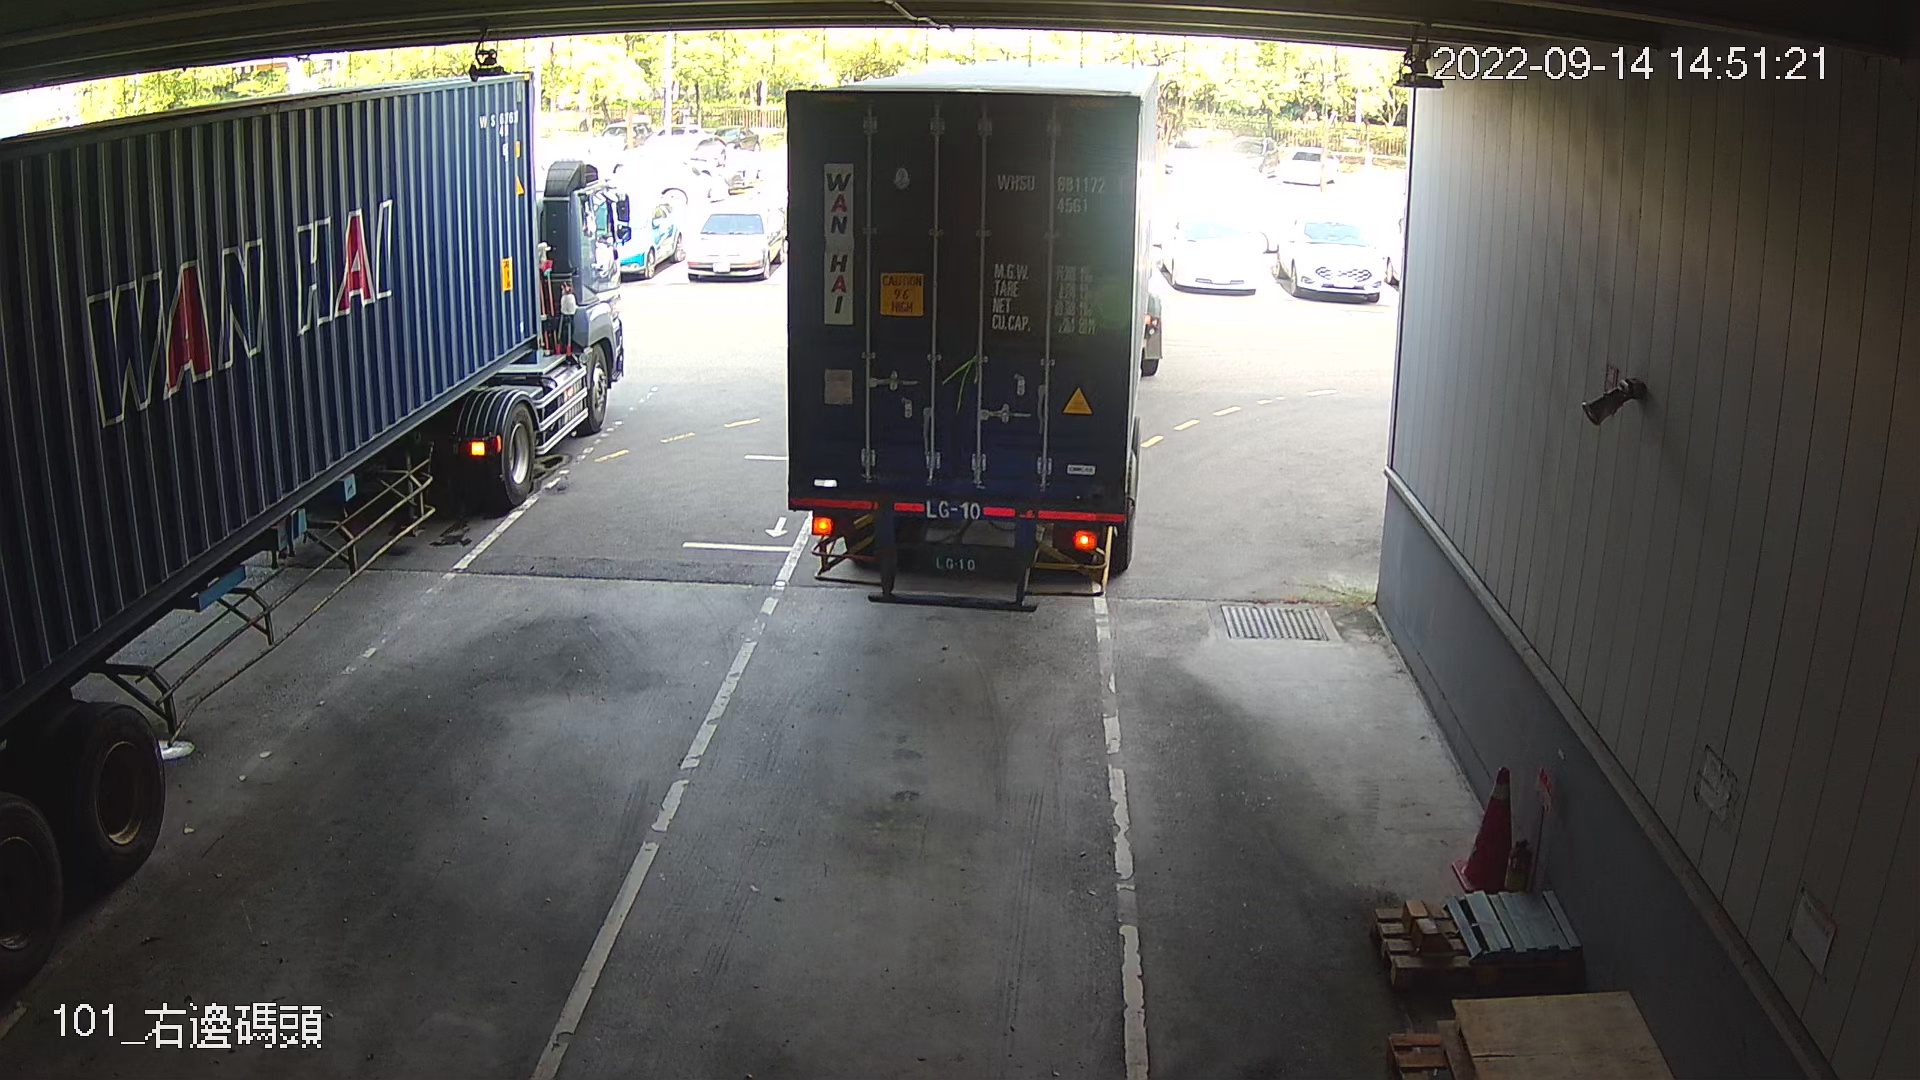container: (986, 164, 1131, 220)
